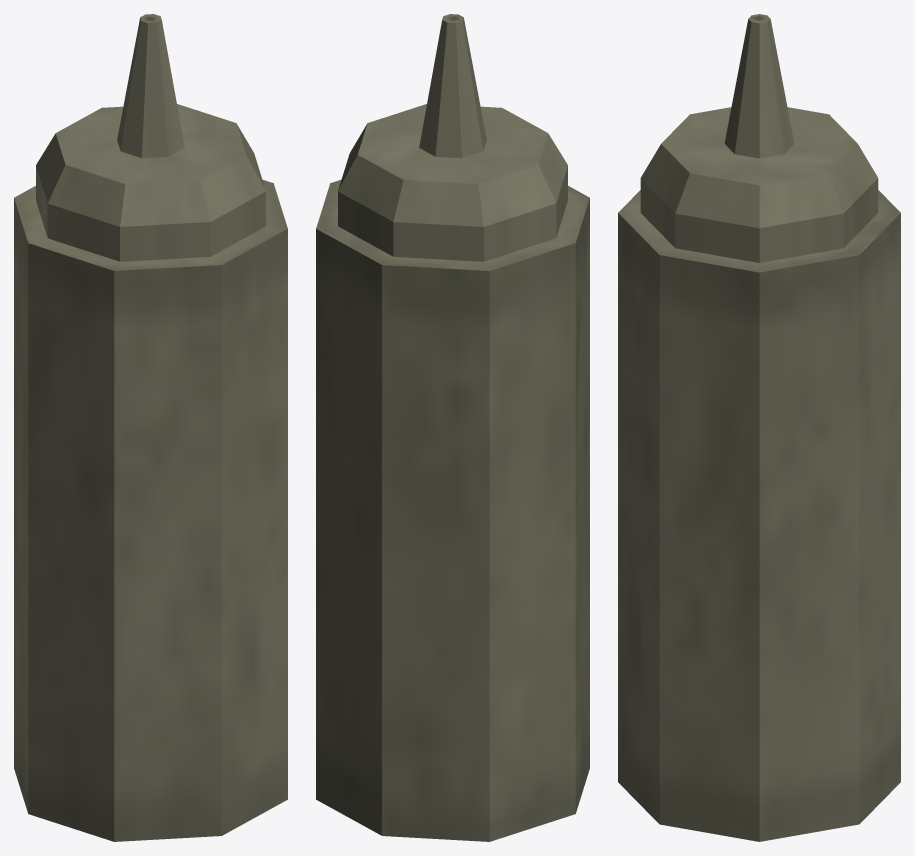
File: mayonnaise_bottle.fbx
3 renders of one model, left to right at view 1: azimuth 30°, elevation 25°; view 2: azimuth 150°, elevation 25°; view 3: azimuth 270°, elevation 25°, orthographic.
Parts seen in each view (by area): view 1: Mayonnaise; view 2: Mayonnaise; view 3: Mayonnaise.
Part boxes in pixels (bbox=[...]): Mayonnaise: bbox=[14, 14, 287, 841]; Mayonnaise: bbox=[316, 14, 589, 841]; Mayonnaise: bbox=[618, 14, 900, 841].
Bounding box in the file's own units: 0.1313 × 0.1313 × 0.3913.
